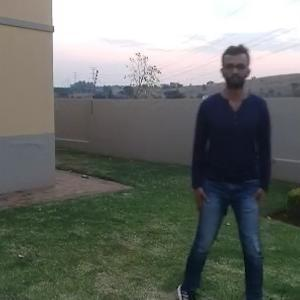follow: (184, 40, 260, 299)
